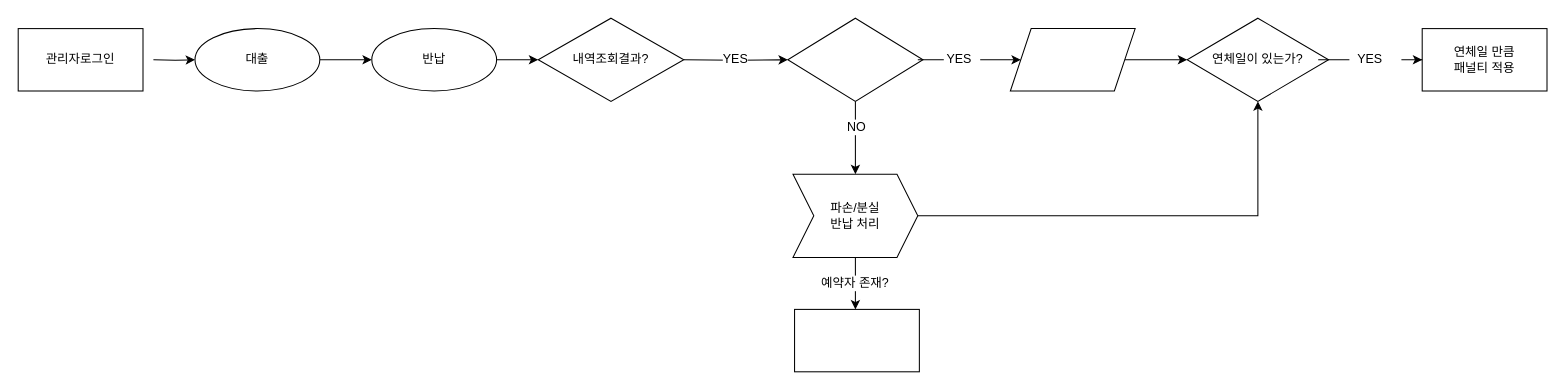
This 1565x390 diagram has some shape labels left out. The shapes that lost their labels are listed below. From the top down, each one's box as (x1, y1, x2, y2) in pixels, then its label:
(787, 17, 923, 101): 정상반납?
(1009, 28, 1135, 91): 반납완료
(794, 308, 919, 372): 예약자에게 예약 취소 문자 전송
